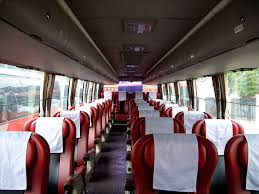seat: (139, 130, 218, 193)
